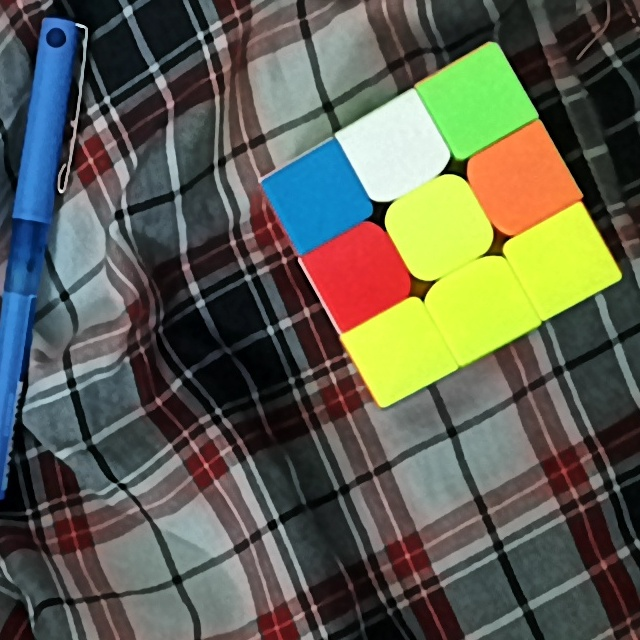tile: (494, 147, 557, 211), (444, 72, 506, 134), (330, 241, 389, 306), (367, 115, 428, 177), (286, 169, 348, 230), (410, 194, 471, 255), (449, 278, 510, 337), (528, 232, 591, 289), (372, 324, 429, 381)
